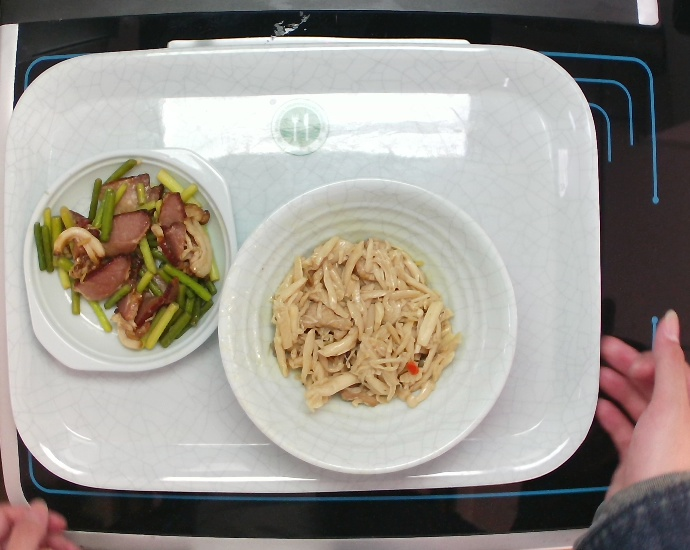JYsf-Shuang_Er_Pan: (20, 144, 239, 373)
JYsf-Xiao_Tang_Wan: (215, 174, 519, 476)
